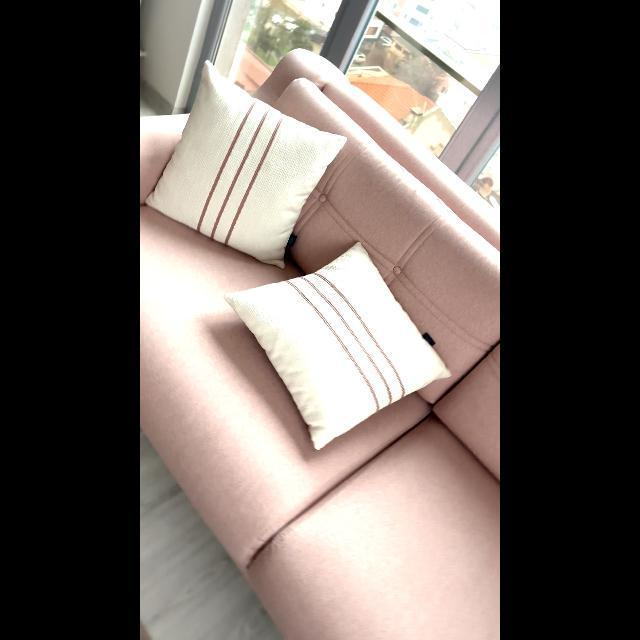throw pillow: (228, 224, 452, 462), (140, 53, 348, 273)
